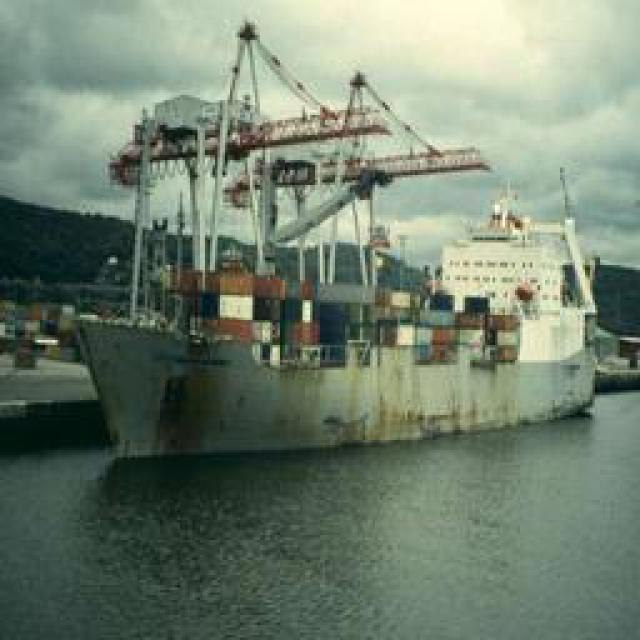Ship: (71, 14, 604, 459)
